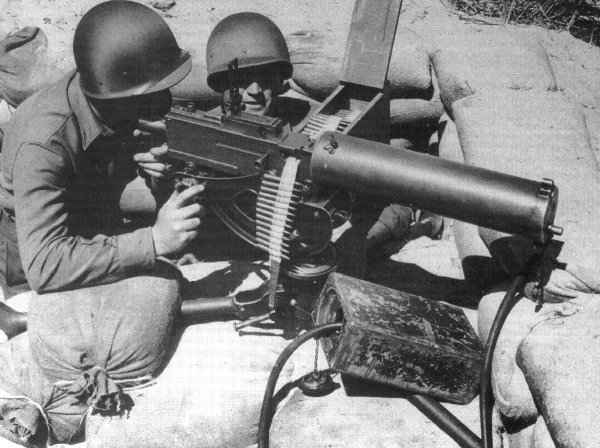rifle: (208, 124, 559, 222)
rifle in hand: (142, 133, 574, 271)
